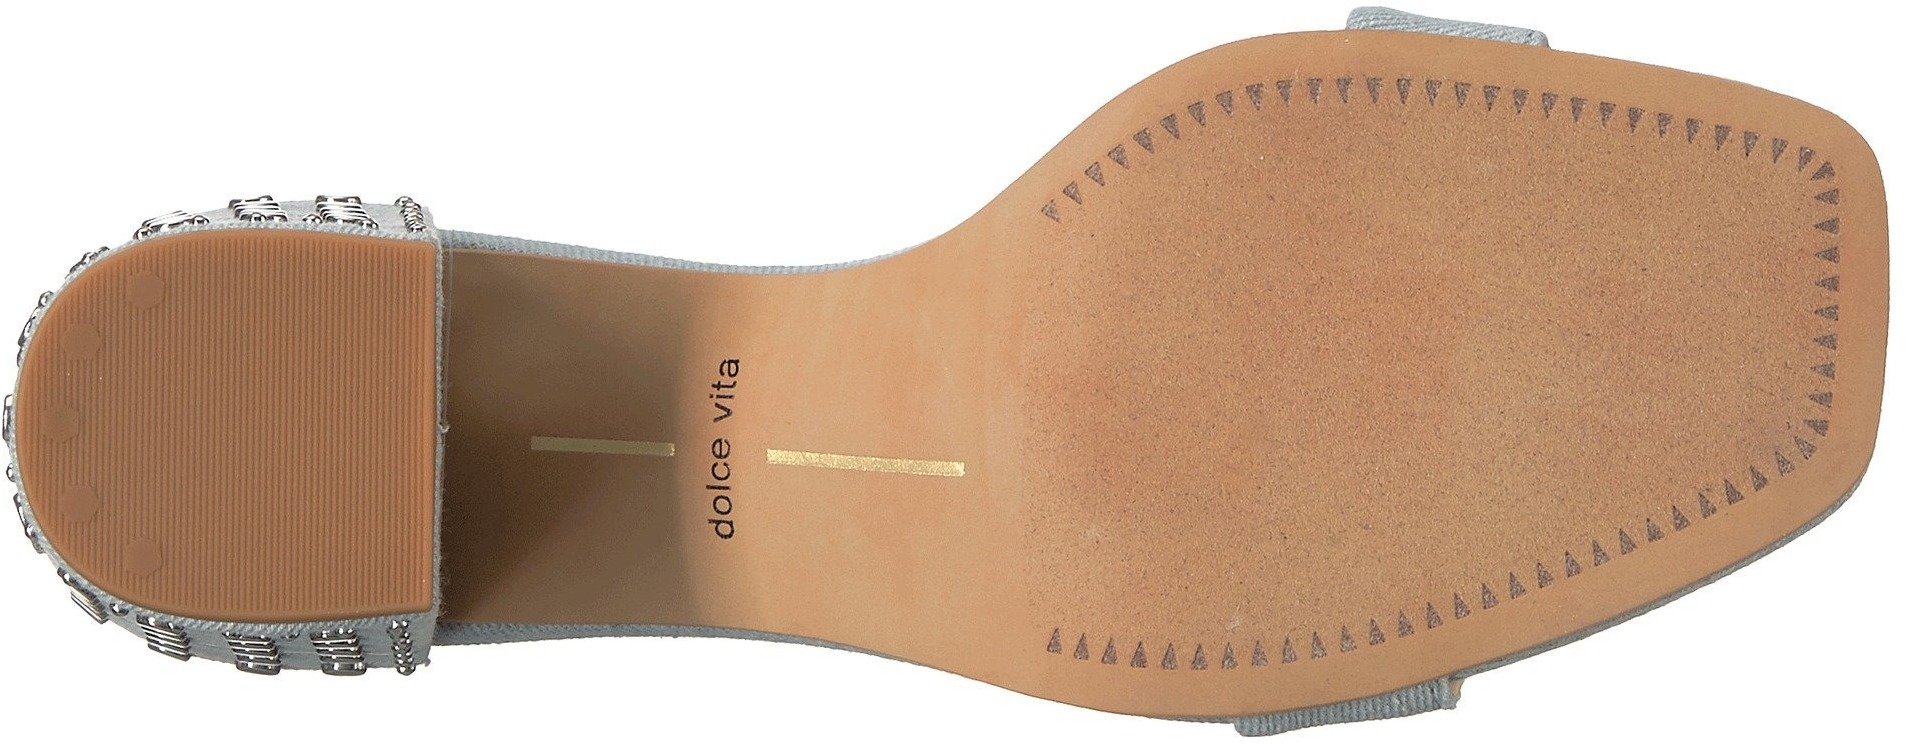line: (112, 266, 299, 434), (160, 438, 348, 602), (306, 259, 432, 390), (46, 455, 123, 536), (28, 391, 96, 455)
other: (1061, 222, 1420, 548), (1427, 180, 1713, 456)
polygon: (112, 266, 299, 434), (46, 455, 123, 536), (28, 383, 100, 453), (101, 255, 171, 326), (28, 391, 96, 455)
triangle: (1041, 609, 1111, 692), (1327, 53, 1402, 126), (1784, 389, 1851, 461), (1368, 603, 1438, 665), (1628, 501, 1693, 565), (1805, 192, 1866, 260), (1122, 636, 1191, 694), (1460, 572, 1524, 634), (1253, 623, 1316, 684), (1474, 69, 1534, 129), (1079, 135, 1139, 194), (1564, 530, 1622, 592), (1714, 455, 1772, 510), (1596, 90, 1650, 147), (1185, 81, 1239, 132), (1809, 280, 1862, 329)
